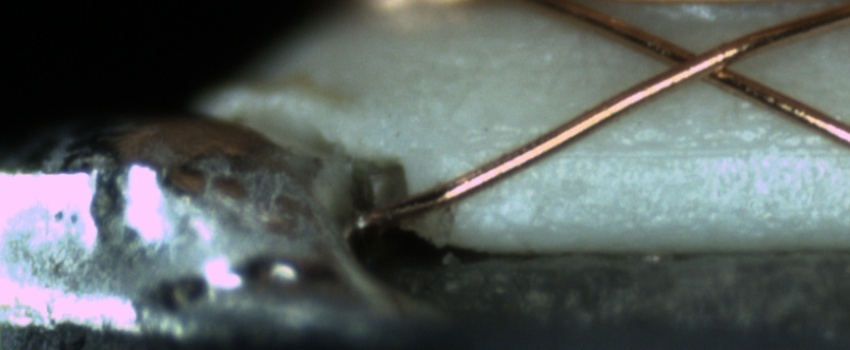CL: (647, 33, 752, 92)
DL: (523, 117, 849, 181)
